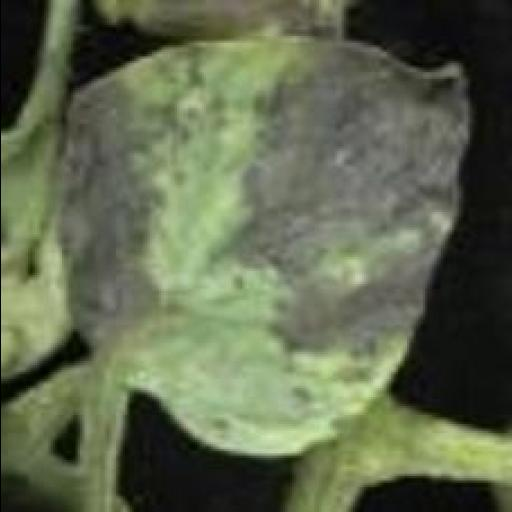Late Blight: (50, 36, 472, 460)
